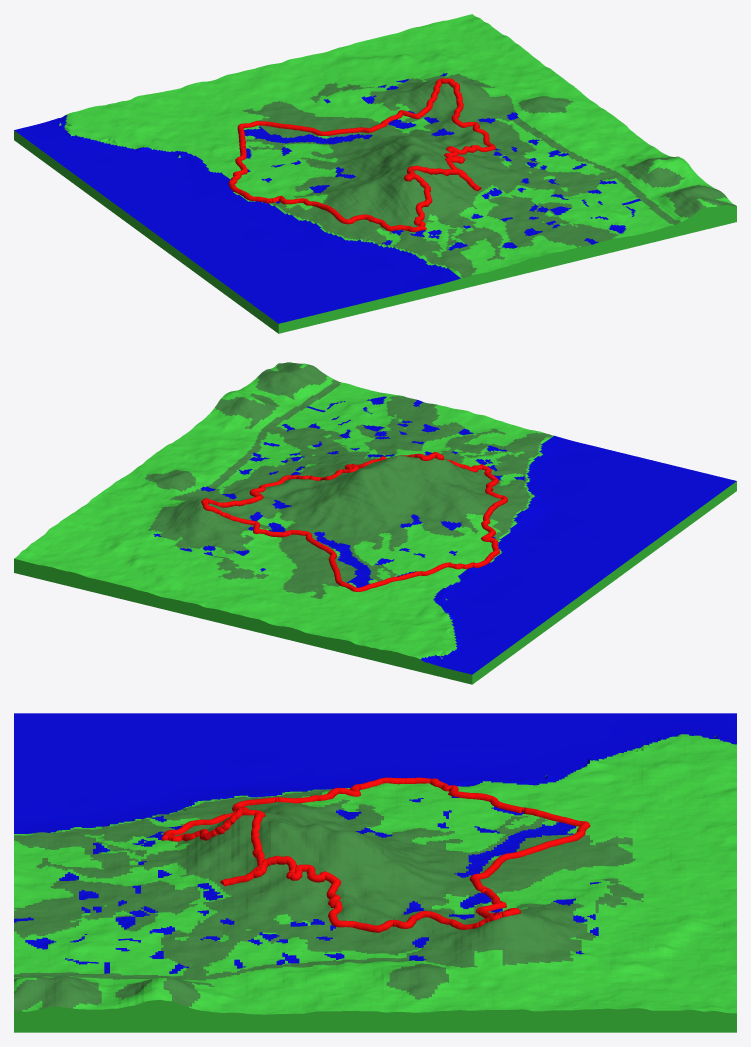
File: 四顶山.glb
3 views of the same model, one above another, from view 1: azimuth 30°, elevation 25°; view 2: azimuth 150°, elevation 25°; view 3: azimuth 270°, elevation 25° (orthographic). The views are drawn at different scales.
Visible parts, largest first — view 1: 四顶山, 四顶山_Trail; view 2: 四顶山, 四顶山_Trail; view 3: 四顶山, 四顶山_Trail.
Part boxes in pixels (left/top/right/bottom): 四顶山: left=14, top=14, right=736, bottom=333; 四顶山_Trail: left=228, top=78, right=495, bottom=231; 四顶山: left=14, top=362, right=736, bottom=684; 四顶山_Trail: left=201, top=452, right=507, bottom=591; 四顶山: left=14, top=713, right=736, bottom=1032; 四顶山_Trail: left=161, top=777, right=590, bottom=932.
Bounding box in the file's own units: 100 × 9.95 × 100.
